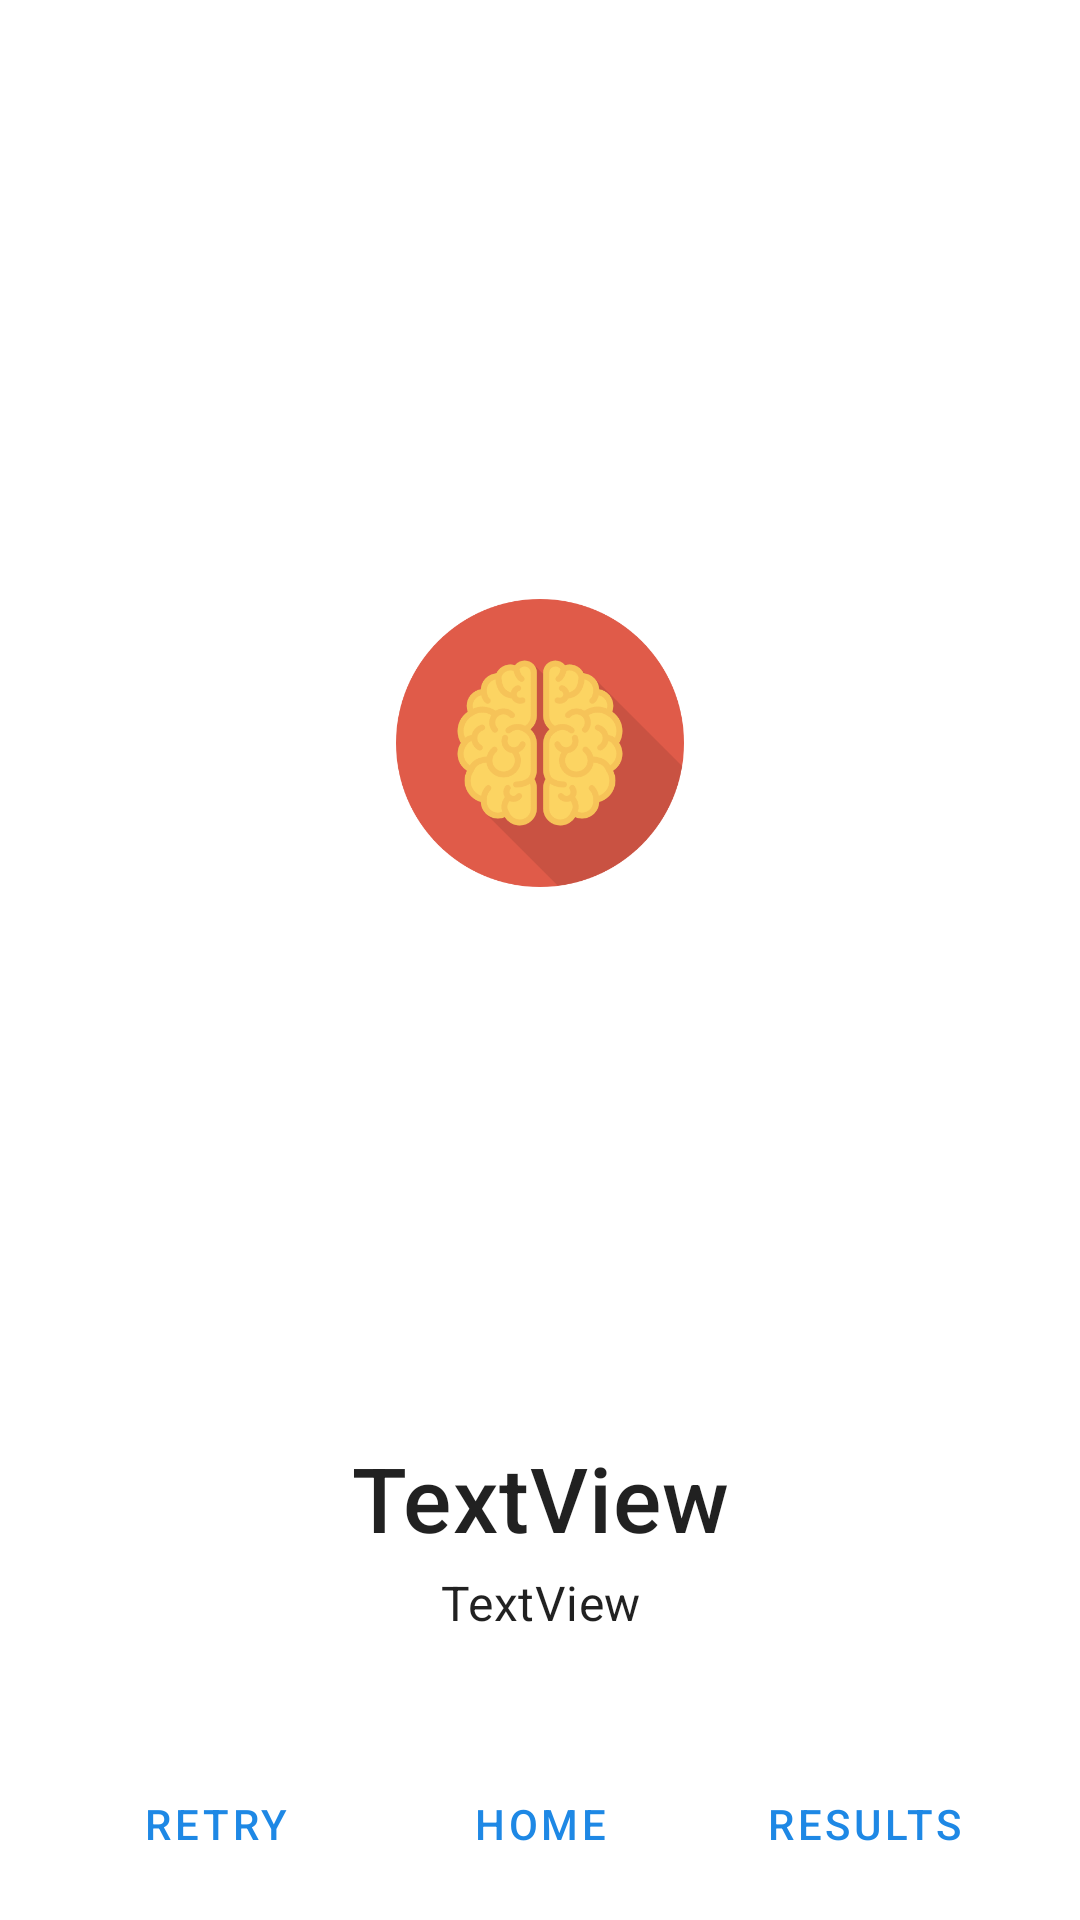

Screen size 1080*1920. Icon name, then its box in pixels as (x1, y1, x2, y2):
brain: (396, 599, 684, 887)
